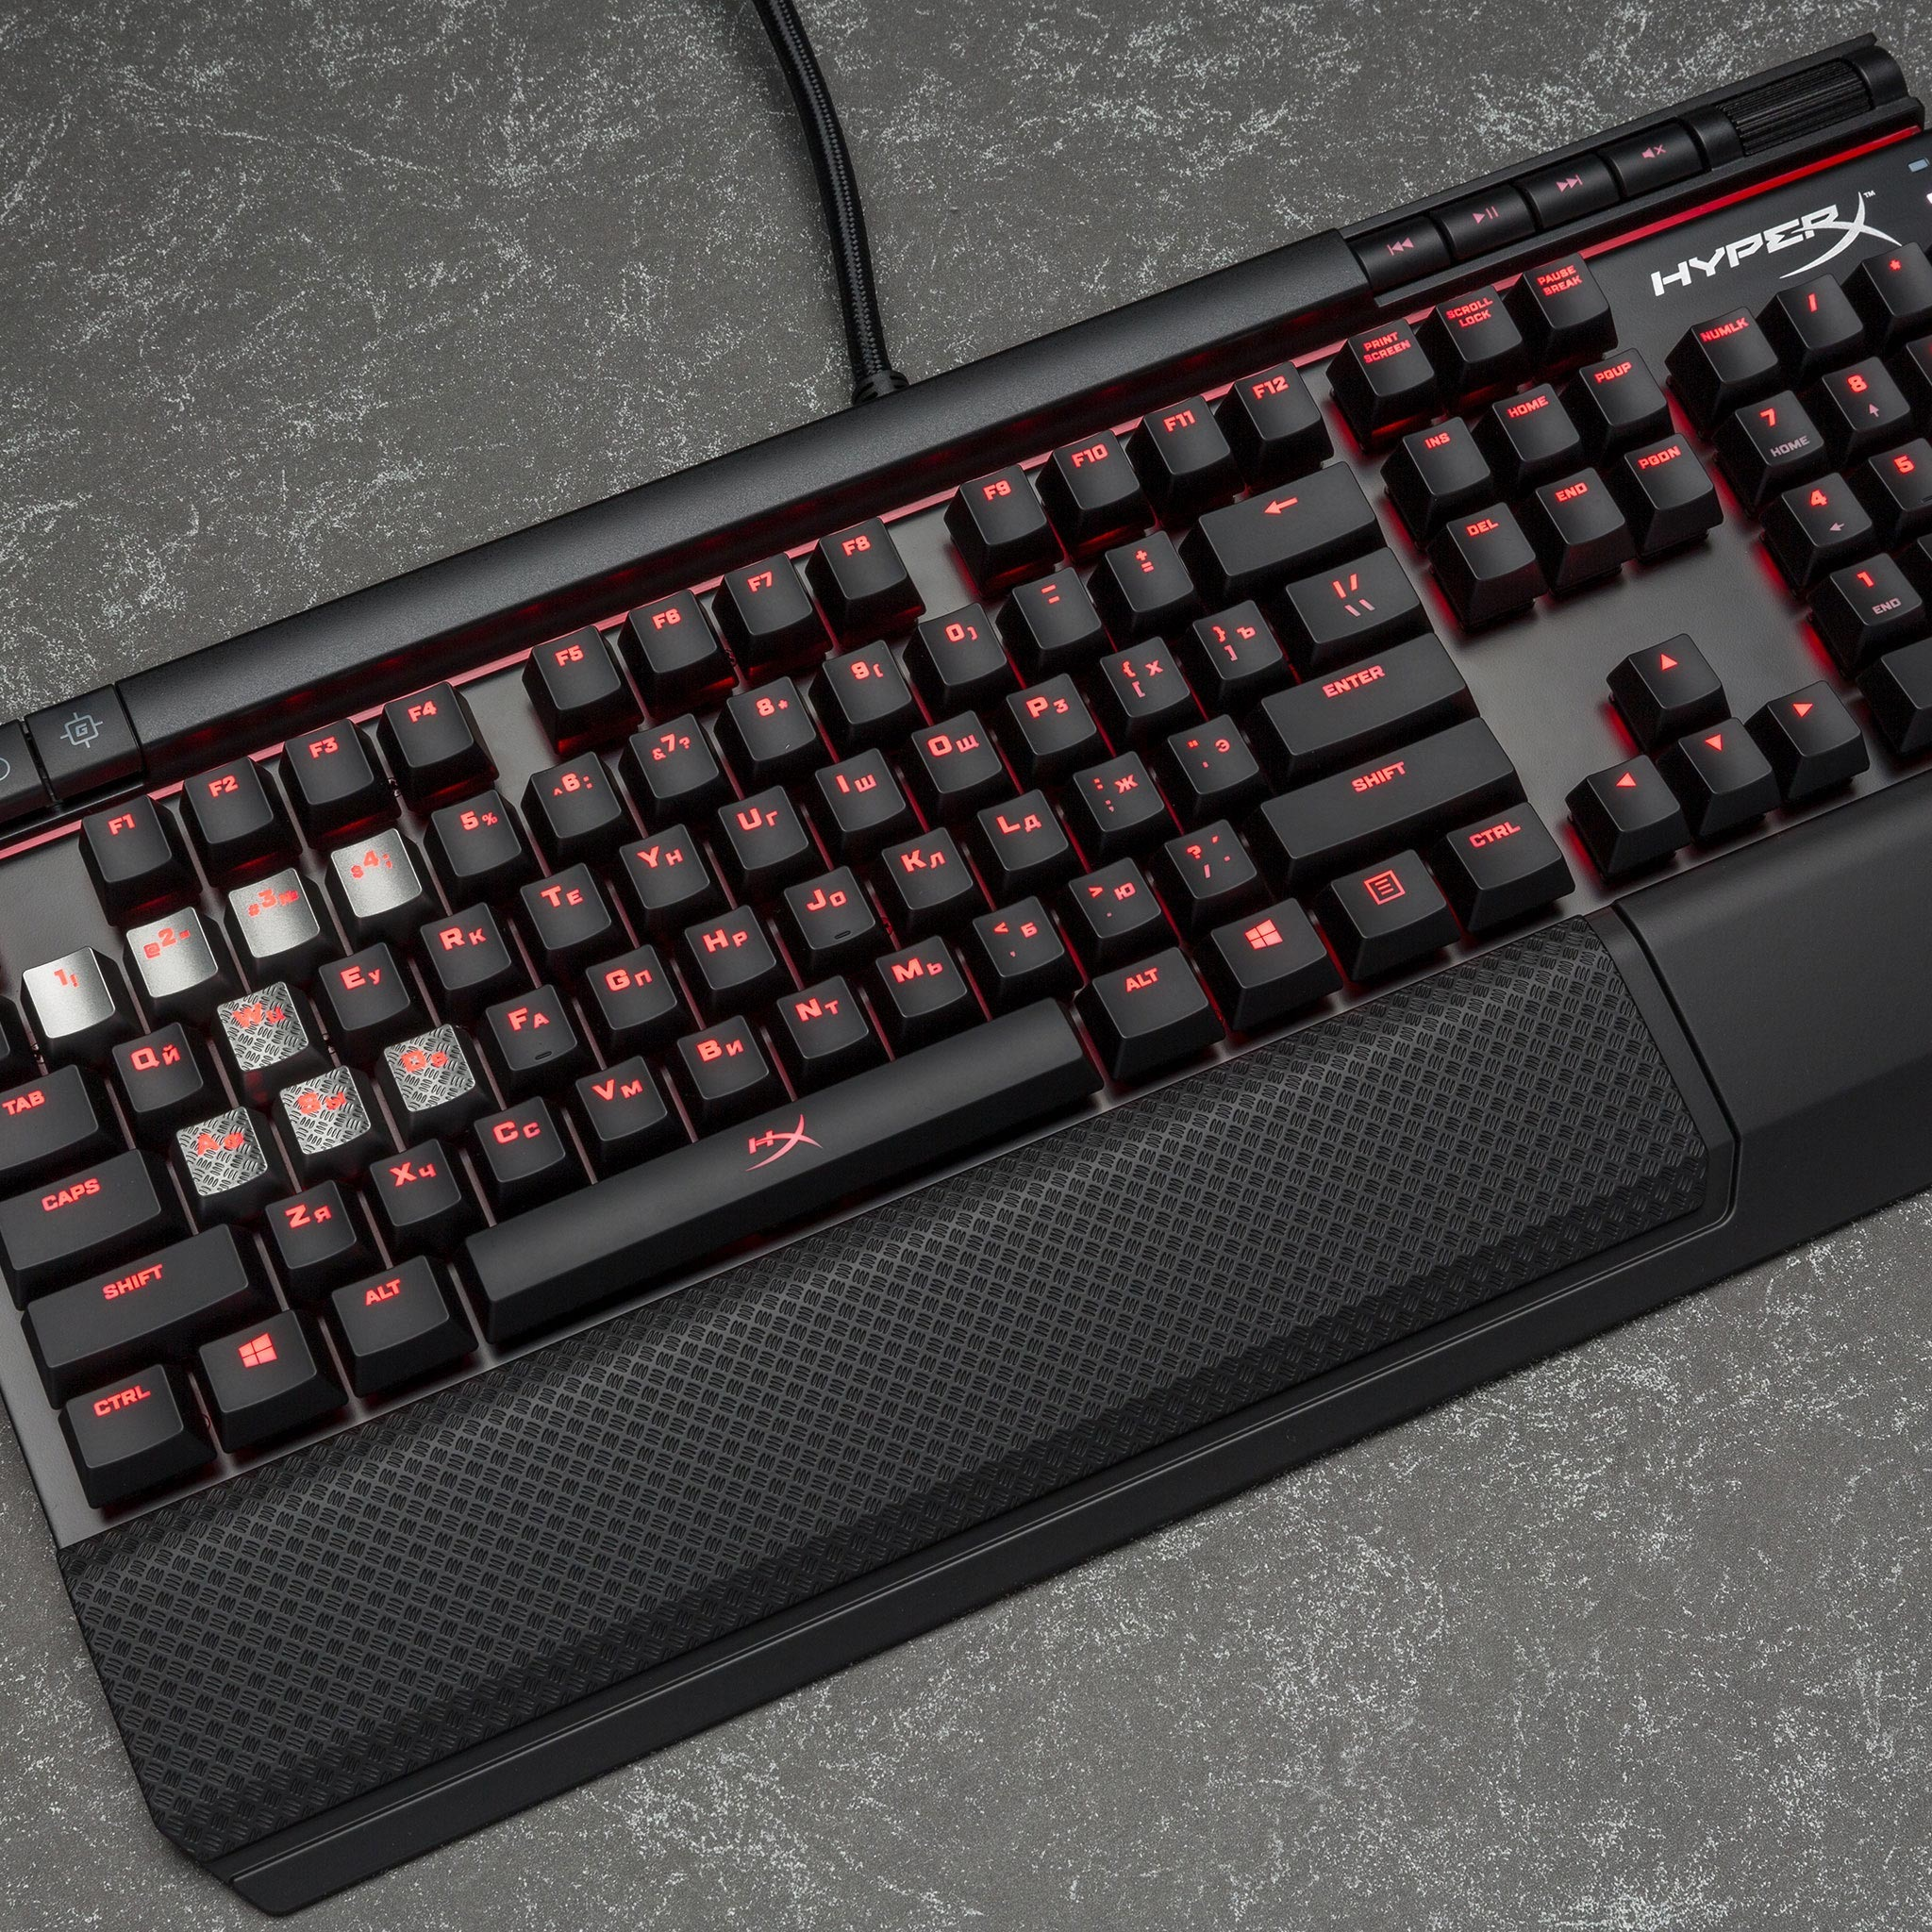keyboard: (12, 0, 1932, 1923)
